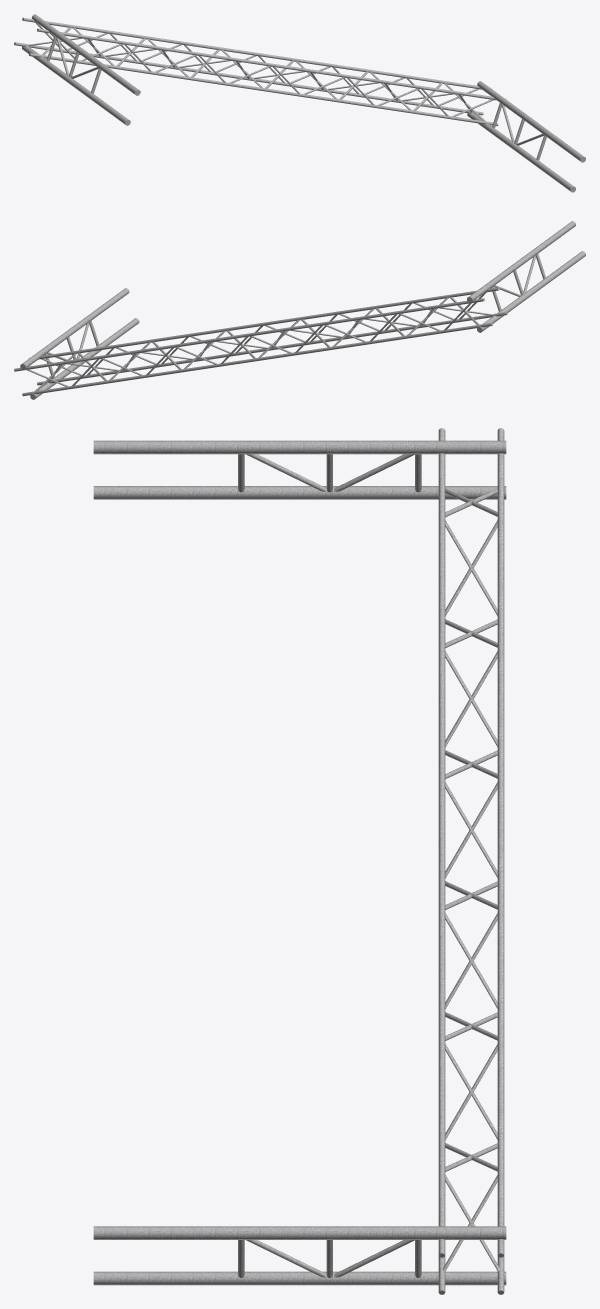
File: _1BRIDGE_AD01_PIRELLI_001_SUB0.obj
3 views of the same model, one above another, from view 1: azimuth 30°, elevation 25°; view 2: azimuth 150°, elevation 25°; view 3: azimuth 270°, elevation 25° (orthographic). The views are drawn at different scales.
Parts seen in each view (by area): view 1: _1BRIDGE_AD01_PIRELLI_001_SUB0_Scene.209; view 2: _1BRIDGE_AD01_PIRELLI_001_SUB0_Scene.209; view 3: _1BRIDGE_AD01_PIRELLI_001_SUB0_Scene.209.
Boxes of the visible parts, x1=… form: _1BRIDGE_AD01_PIRELLI_001_SUB0_Scene.209: x1=14, y1=14, x2=585, y2=192; _1BRIDGE_AD01_PIRELLI_001_SUB0_Scene.209: x1=14, y1=221, x2=585, y2=399; _1BRIDGE_AD01_PIRELLI_001_SUB0_Scene.209: x1=93, y1=428, x2=506, y2=1294.
Size of the model in its own units: 1867 by 784 by 700.
